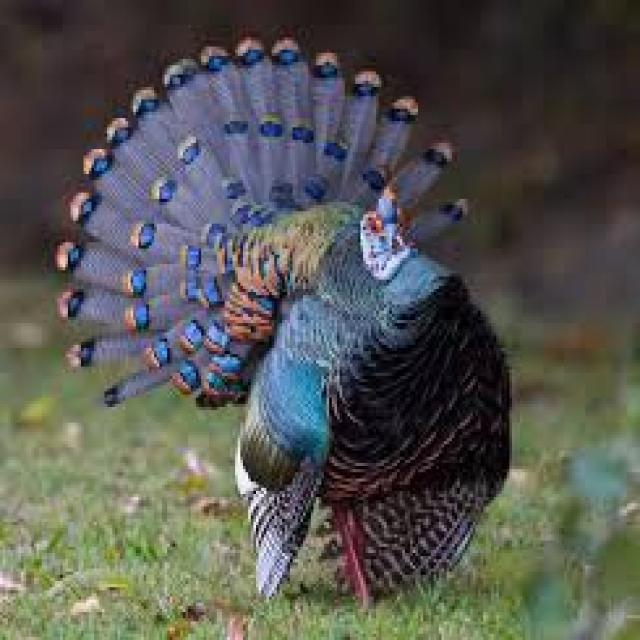Turkey: (62, 36, 513, 599)
